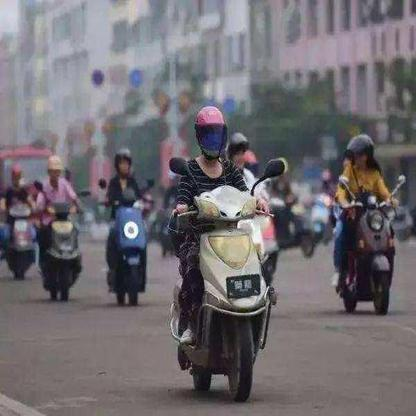target: (163, 103, 288, 406)
